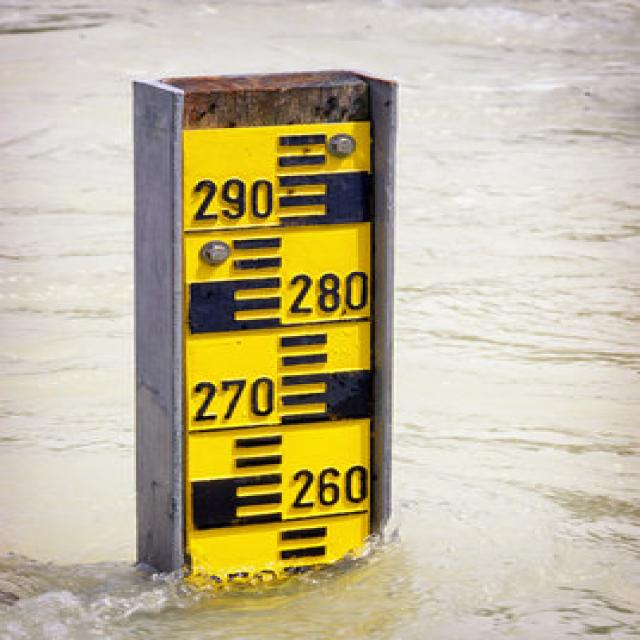60: (311, 464, 369, 508)
70: (215, 372, 281, 421)
80: (311, 272, 369, 316)
90: (222, 176, 275, 228)
staff: (180, 130, 376, 562)
